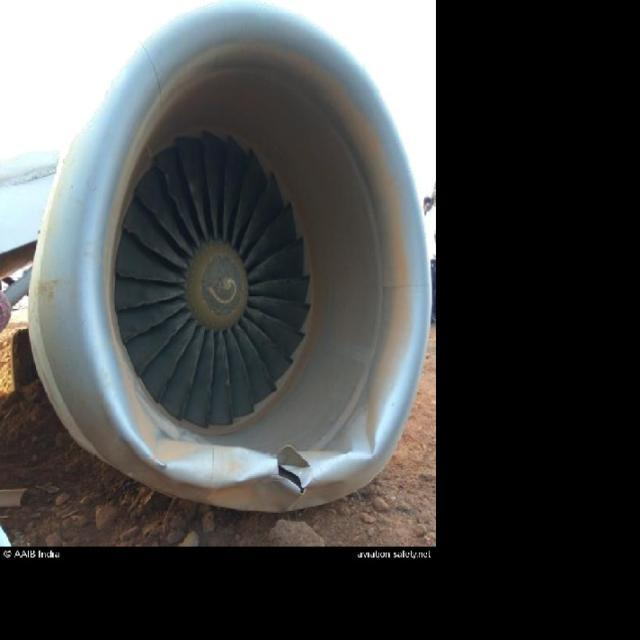crack: (279, 460, 306, 497)
dent: (168, 449, 268, 487), (344, 408, 382, 463)
